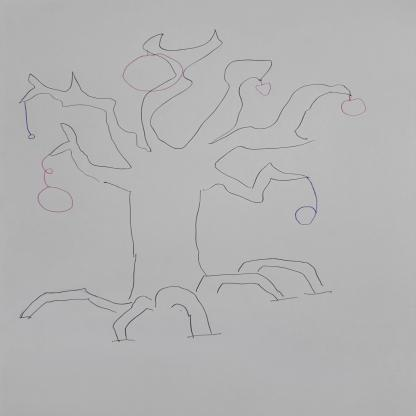apple: (116, 51, 185, 90), (28, 177, 78, 213), (290, 203, 322, 228), (338, 95, 368, 117), (251, 80, 275, 98)
branch_sharp: (20, 25, 355, 204)
root_only: (15, 251, 332, 343)
trunk_straight: (116, 195, 215, 270)
